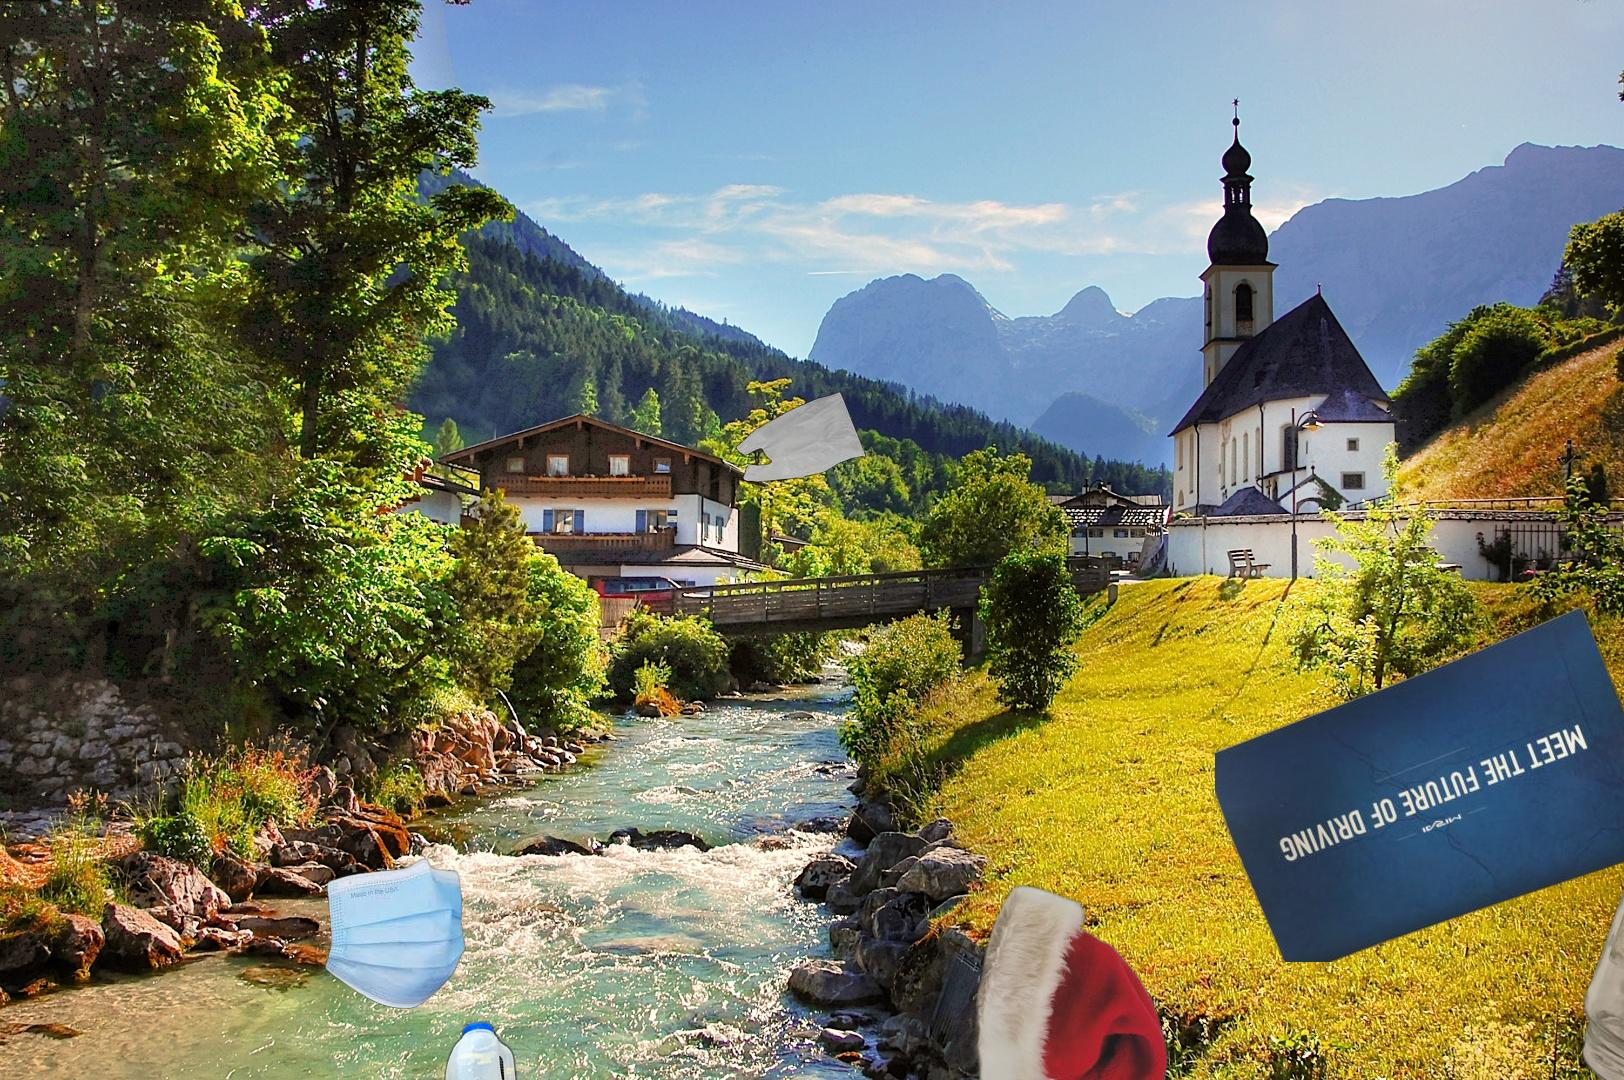glass: (1578, 771, 1624, 1080)
paper: (1216, 604, 1624, 962), (967, 881, 1391, 1080)
plastic-bag: (732, 389, 869, 485)
plastic-bottles: (441, 1015, 539, 1080)
trash: (322, 856, 467, 1011)
